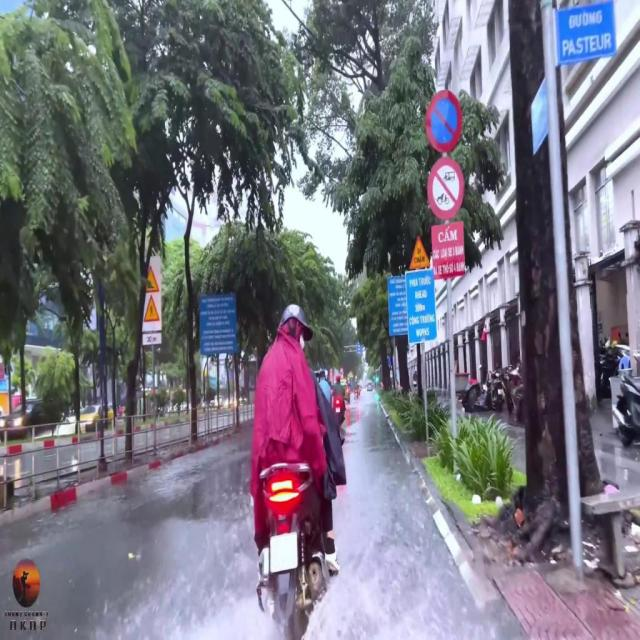cam_cac_loai_xe_3_banh: (428, 155, 464, 220)
cam_do_xe: (425, 89, 462, 154)
chu_y_nguoi_di_bo_cat_ngang: (143, 295, 159, 322)
di_cham: (408, 235, 431, 270)
duong_co_song_map_mo_nhan_tao: (146, 266, 158, 292)
